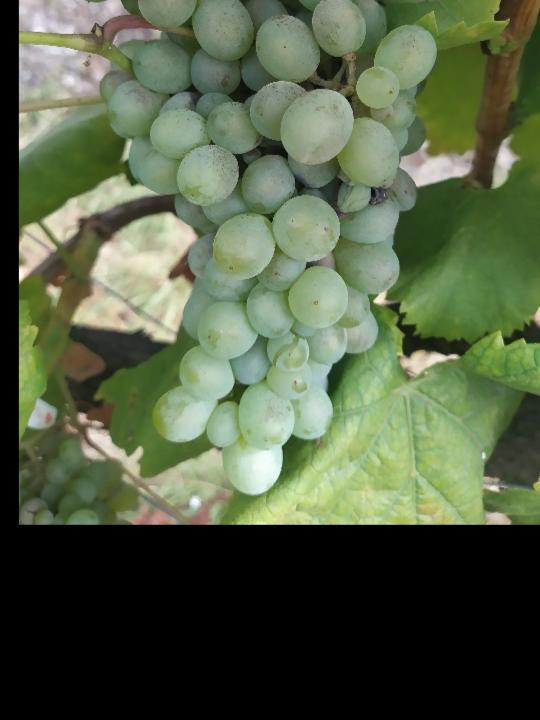grape: (60, 0, 441, 498)
